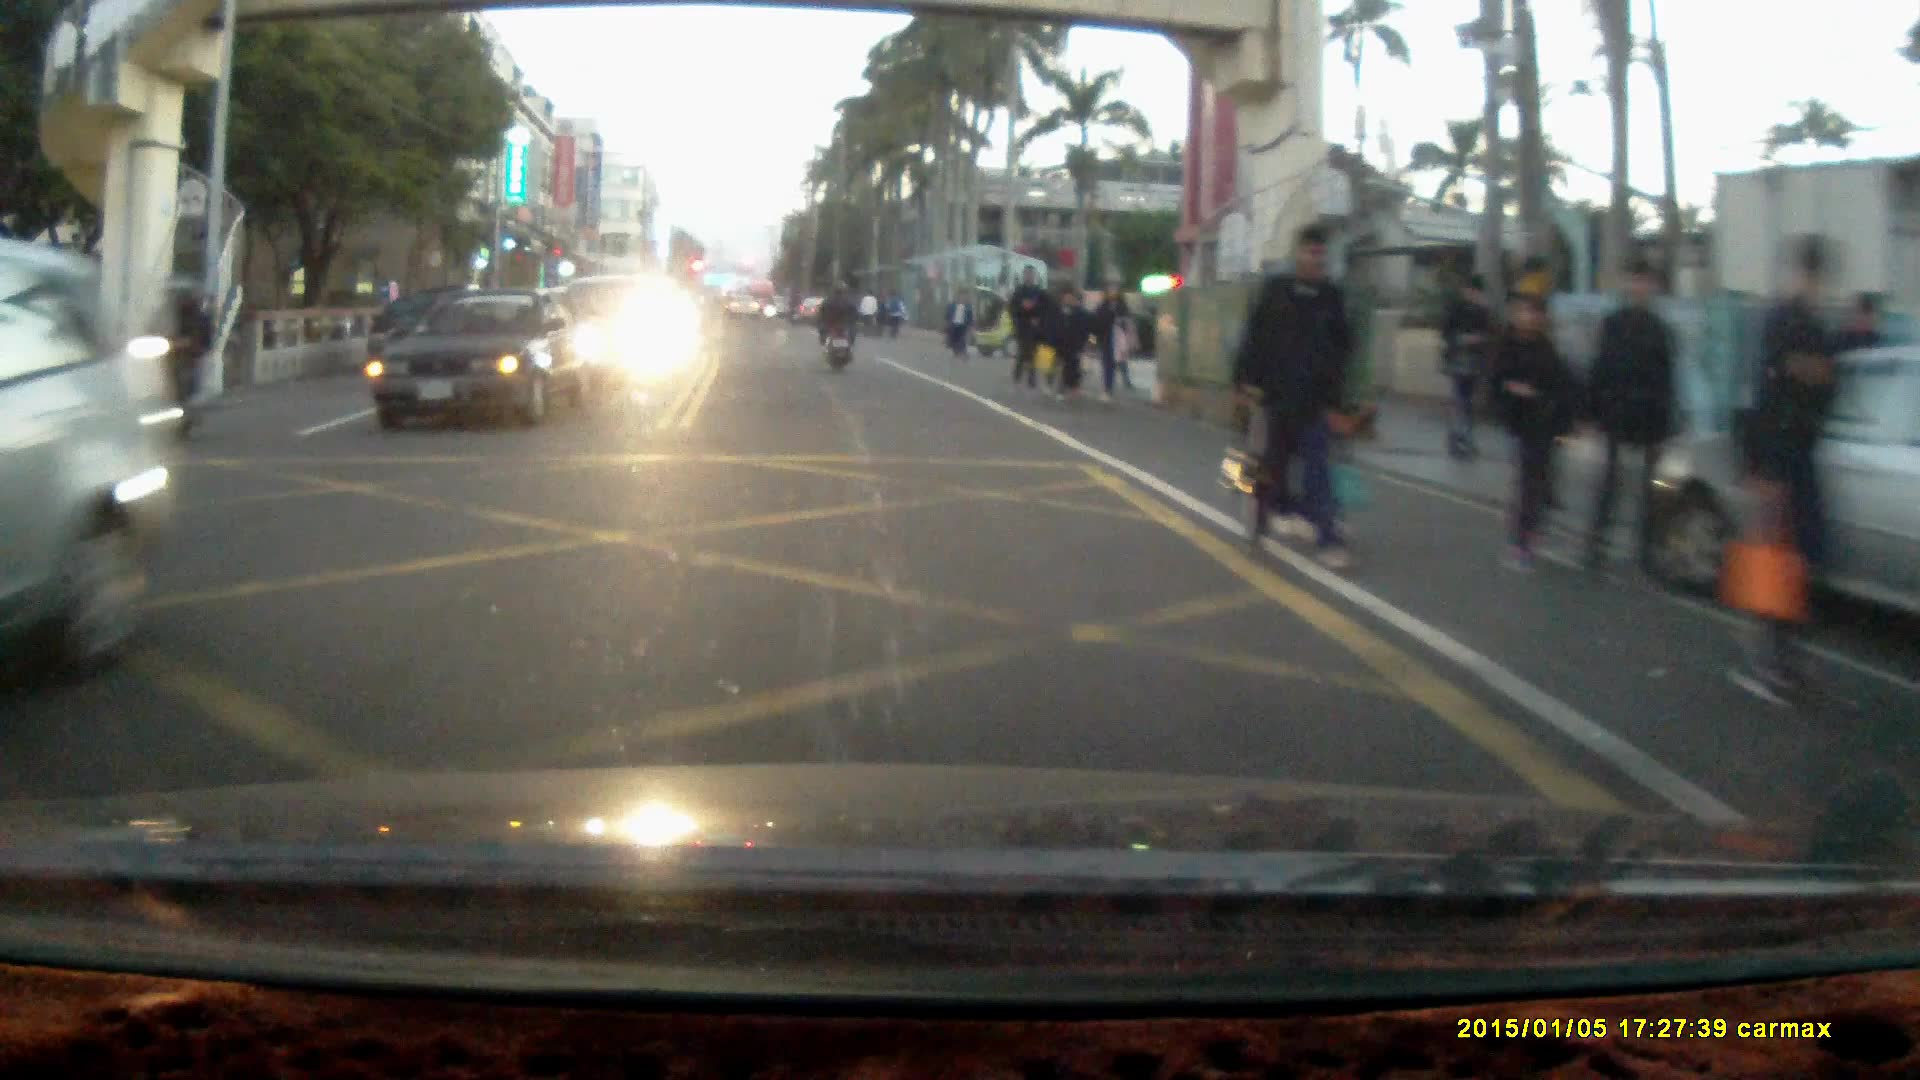pedestrian: (1726, 233, 1841, 714), (1228, 227, 1353, 576), (1581, 255, 1681, 594), (1492, 290, 1583, 584), (1439, 277, 1495, 476), (1087, 279, 1136, 405), (1005, 265, 1048, 399), (1044, 286, 1089, 403), (945, 291, 969, 363)
rider: (109, 274, 219, 458), (816, 279, 858, 374)
vehicle: (1637, 347, 1920, 633), (362, 301, 604, 440)
